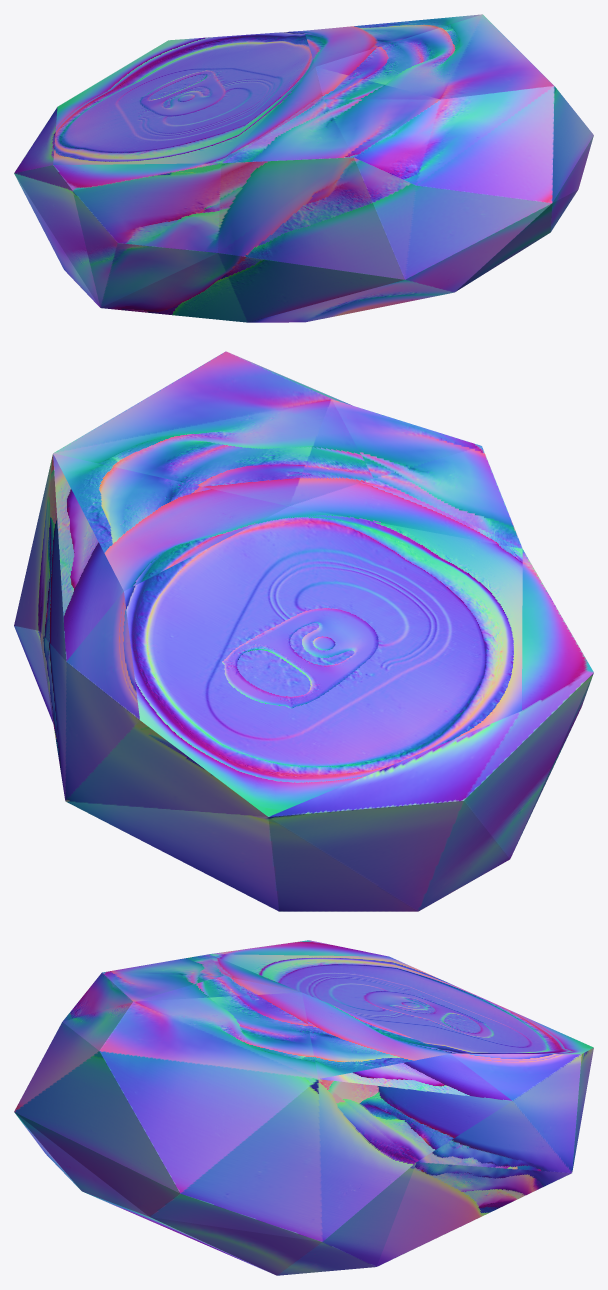
The model's file is can.fbx.
3 views of the same model, one above another, from view 1: azimuth 30°, elevation 25°; view 2: azimuth 150°, elevation 25°; view 3: azimuth 270°, elevation 25° (orthographic). The views are drawn at different scales.
Visible parts, largest first — view 1: CanCrushed_lowpoly; view 2: CanCrushed_lowpoly; view 3: CanCrushed_lowpoly.
Part boxes in pixels (x1,y1,x2,y2): CanCrushed_lowpoly: (14, 14, 593, 322); CanCrushed_lowpoly: (14, 351, 593, 911); CanCrushed_lowpoly: (14, 940, 593, 1275).
Bounding box in the file's own units: 0.1148 × 0.0588 × 0.1174.
